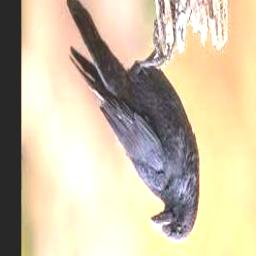Crow: (65, 0, 199, 242)
